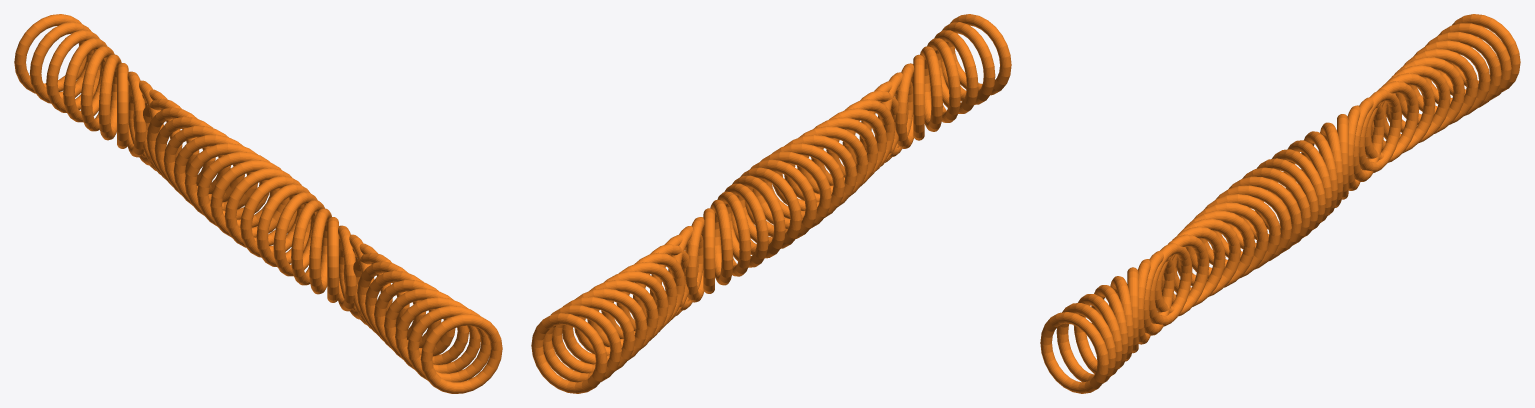
Rendered from tinker.obj.
The picture shows the model from 3 angles, left to right: view 1: azimuth 30°, elevation 25°; view 2: azimuth 150°, elevation 25°; view 3: azimuth 330°, elevation 25°; orthographic projection.
Visible parts, largest first — view 1: obj_0; view 2: obj_0; view 3: obj_0.
Boxes of the visible parts, box(x1,y1,x2,y2) form: obj_0: box(14, 14, 502, 393); obj_0: box(531, 14, 1011, 393); obj_0: box(1040, 14, 1520, 393).
Size of the model in its own units: 37 by 37 by 358.
